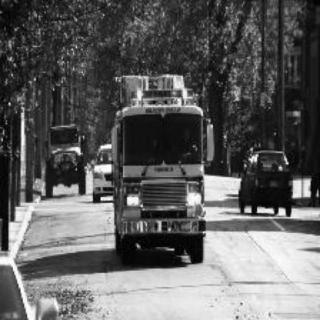other: (132, 86, 196, 102), (182, 186, 205, 206)
